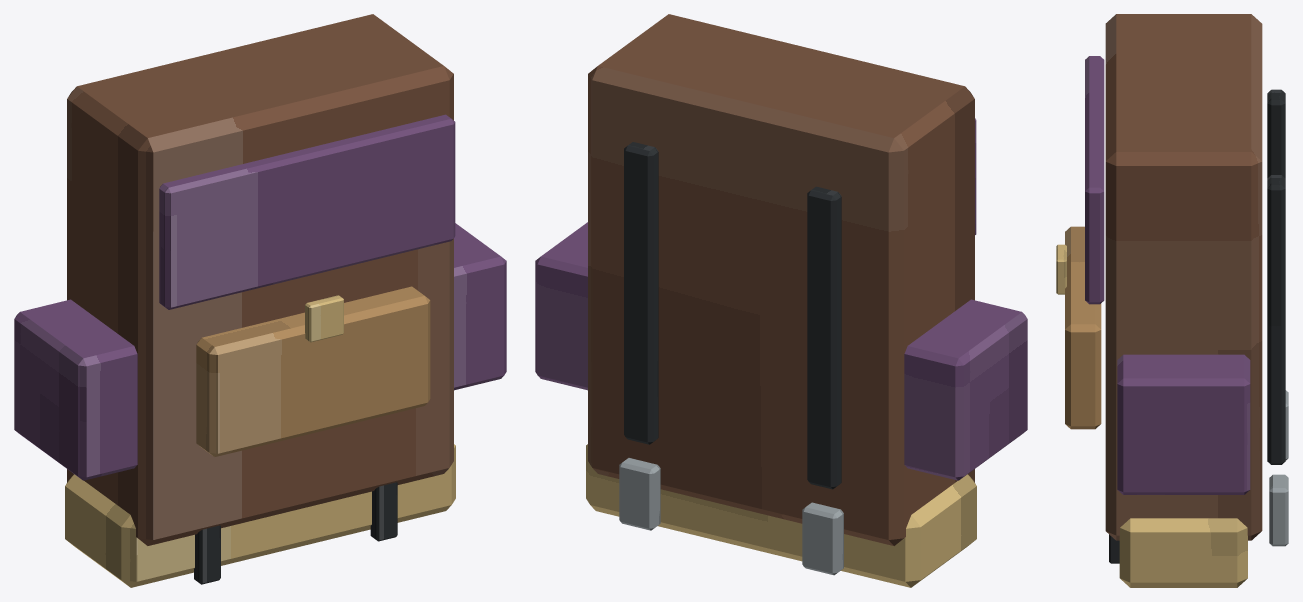
File: backpack_large.glb
The picture shows the model from 3 angles, left to right: view 1: azimuth 30°, elevation 25°; view 2: azimuth 150°, elevation 25°; view 3: azimuth 270°, elevation 25°; orthographic projection. The views are drawn at different scales.
Parts seen in each view (by area): view 1: PackBody, TopFlap, FrontPocket, SidePocket_-0.4698, Bedroll, SidePocket_0.4698, Buckle, BedrollTie_0.22680000000000003, BedrollTie_-0.22680000000000003; view 2: PackBody, SidePocket_-0.4698, Bedroll, ShoulderStrap_-0.2349, ShoulderStrap_0.2349, SidePocket_0.4698, StrapAnchor_0.2349, StrapAnchor_-0.2349; view 3: PackBody, SidePocket_0.4698, Bedroll, FrontPocket, ShoulderStrap_0.2349, TopFlap, ShoulderStrap_-0.2349, StrapAnchor_0.2349, Buckle.
Boxes of the visible parts, x1=… form: PackBody: x1=67, y1=14, x2=453, y2=545; TopFlap: x1=159, y1=114, x2=455, y2=309; FrontPocket: x1=196, y1=286, x2=430, y2=456; SidePocket_-0.4698: x1=14, y1=299, x2=137, y2=480; Bedroll: x1=65, y1=444, x2=455, y2=587; SidePocket_0.4698: x1=454, y1=223, x2=506, y2=390; Buckle: x1=305, y1=295, x2=343, y2=342; BedrollTie_0.22680000000000003: x1=370, y1=482, x2=397, y2=541; BedrollTie_-0.22680000000000003: x1=194, y1=525, x2=220, y2=584; PackBody: x1=588, y1=14, x2=974, y2=545; SidePocket_-0.4698: x1=904, y1=299, x2=1027, y2=480; Bedroll: x1=586, y1=444, x2=976, y2=587; ShoulderStrap_-0.2349: x1=807, y1=186, x2=841, y2=489; ShoulderStrap_0.2349: x1=624, y1=142, x2=658, y2=444; SidePocket_0.4698: x1=535, y1=222, x2=587, y2=390; StrapAnchor_0.2349: x1=619, y1=458, x2=660, y2=530; StrapAnchor_-0.2349: x1=802, y1=502, x2=843, y2=575; PackBody: x1=1105, y1=14, x2=1262, y2=540; SidePocket_0.4698: x1=1117, y1=354, x2=1250, y2=494; Bedroll: x1=1119, y1=518, x2=1247, y2=587; FrontPocket: x1=1065, y1=226, x2=1101, y2=429; ShoulderStrap_0.2349: x1=1267, y1=175, x2=1285, y2=464; TopFlap: x1=1085, y1=56, x2=1104, y2=304; ShoulderStrap_-0.2349: x1=1267, y1=89, x2=1285, y2=177; StrapAnchor_0.2349: x1=1269, y1=474, x2=1288, y2=546; Buckle: x1=1056, y1=244, x2=1066, y2=294.
Bounding box in the file's own units: 1.1 × 1.12 × 0.5416.
1 material, 1 textured.
